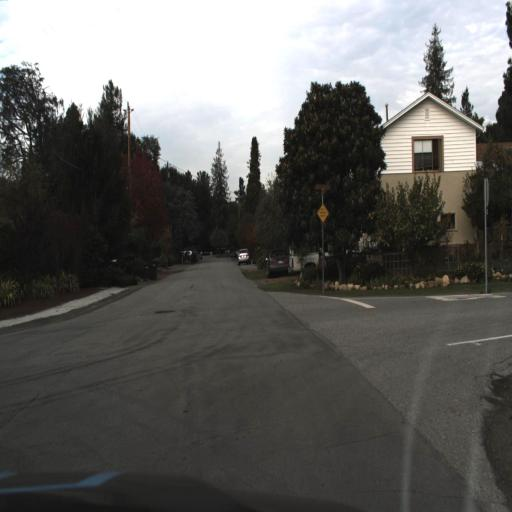car: (289, 239, 327, 279), (265, 244, 289, 283), (264, 244, 290, 276), (237, 245, 252, 266), (237, 247, 251, 265)
